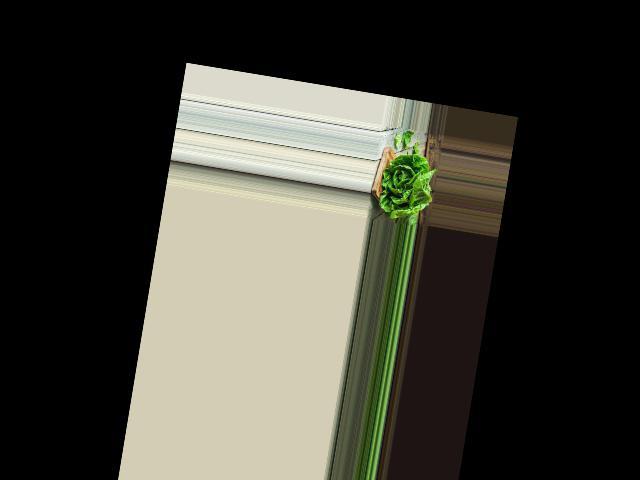lettuce: (373, 152, 436, 225)
